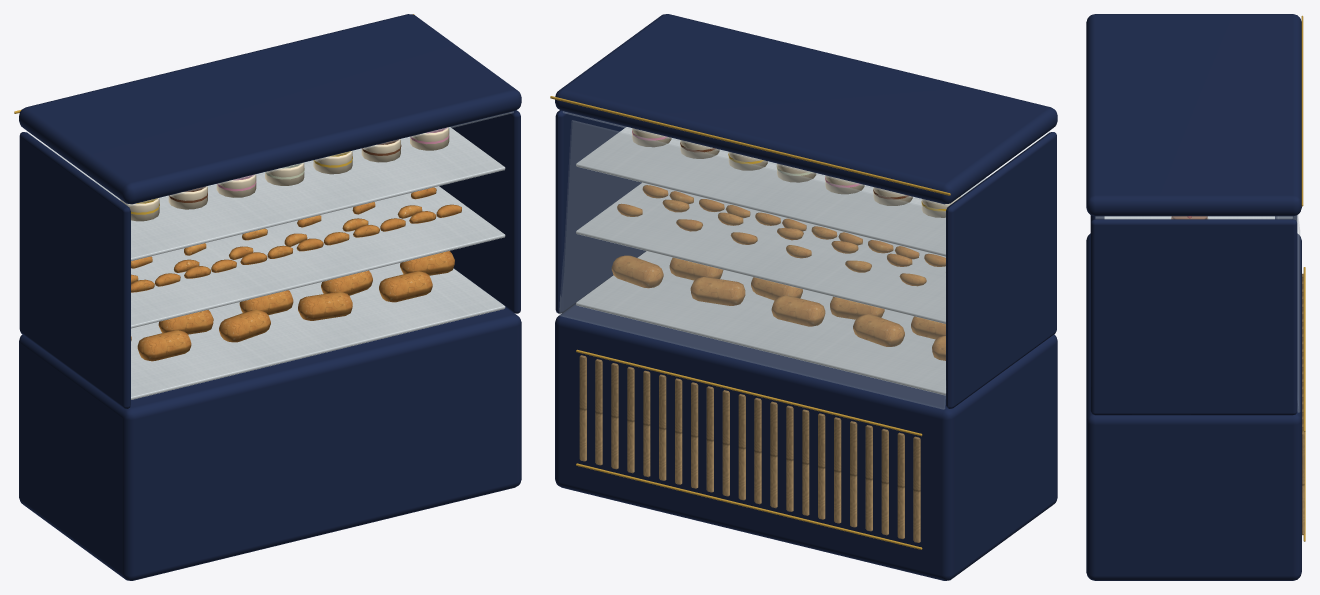
Rendered from bakery_T4.fbx.
The picture shows the model from 3 angles, left to right: view 1: azimuth 30°, elevation 25°; view 2: azimuth 150°, elevation 25°; view 3: azimuth 270°, elevation 25°; orthographic projection. The views are drawn at different scales.
Parts seen in each view (by area): view 1: Body, Anim Fill 1, Anim Fill 2, Anim Fill 0, Anim Fill 3; view 2: Body, Anim Fill 1, Anim Fill 0, Anim Fill 2, Anim Fill 3; view 3: Body.
Boxes of the visible parts, left/top/right/bottom form: Body: left=14, top=14, right=521, bottom=580; Anim Fill 1: left=239, top=151, right=379, bottom=320; Anim Fill 2: left=158, top=174, right=270, bottom=342; Anim Fill 0: left=352, top=127, right=461, bottom=302; Anim Fill 3: left=120, top=198, right=191, bottom=361; Body: left=550, top=14, right=1057, bottom=580; Anim Fill 1: left=690, top=152, right=837, bottom=326; Anim Fill 0: left=611, top=128, right=724, bottom=288; Anim Fill 2: left=825, top=175, right=919, bottom=346; Anim Fill 3: left=899, top=196, right=960, bottom=360; Body: left=1086, top=14, right=1305, bottom=580.
Bounding box in the file's own units: 1.99 × 1.89 × 0.977.
